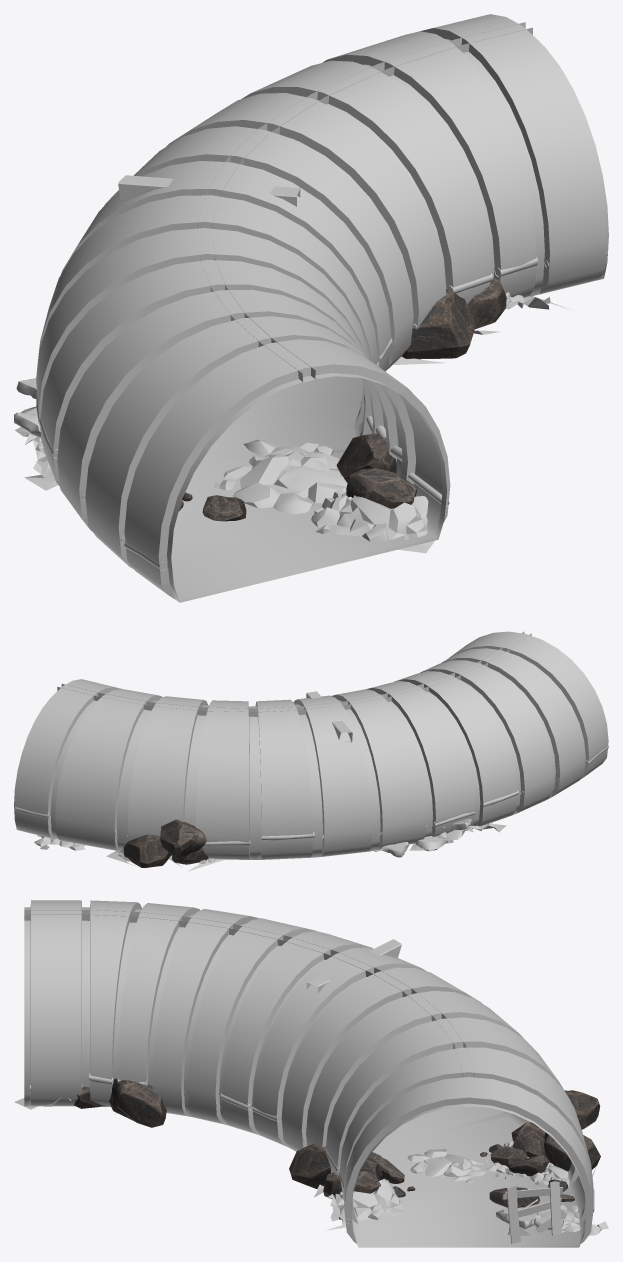
File: 90DegOne.DAE
3 renders of one model, top to bottom at view 1: azimuth 30°, elevation 25°; view 2: azimuth 150°, elevation 25°; view 3: azimuth 270°, elevation 25°, orthographic. The views are drawn at different scales.
Visible parts, largest first — view 1: Shaft, RockPile, Rocks, Wood, Concrete; view 2: Shaft, Rocks, RockPile, Concrete; view 3: Shaft, Rocks, RockPile, Wood, Concrete.
Part boxes in pixels (x1,y1,x2,y2): Shaft: [36, 14, 608, 602]; RockPile: [15, 292, 568, 553]; Rocks: [179, 278, 506, 521]; Wood: [118, 175, 300, 206]; Concrete: [14, 378, 41, 437]; Shaft: [14, 631, 608, 859]; Rocks: [123, 819, 208, 867]; RockPile: [34, 822, 506, 871]; Concrete: [374, 818, 472, 857]; Shaft: [24, 900, 594, 1247]; Rocks: [73, 1078, 600, 1207]; RockPile: [14, 1097, 608, 1235]; Wood: [306, 939, 563, 1243]; Concrete: [496, 1199, 564, 1229].
Bounding box in the file's own units: 1280 × 1338 × 397.
